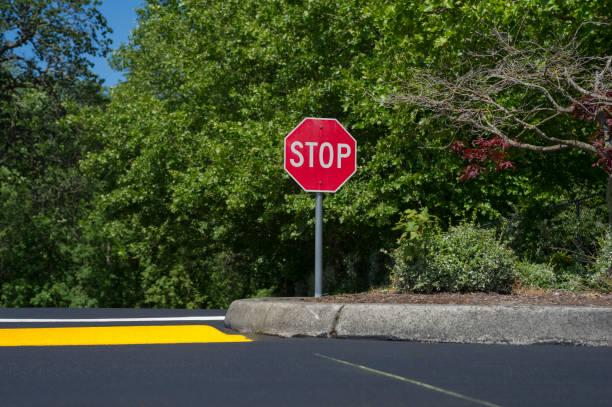Pole: (315, 194, 324, 297)
Sign: (284, 118, 357, 193)
